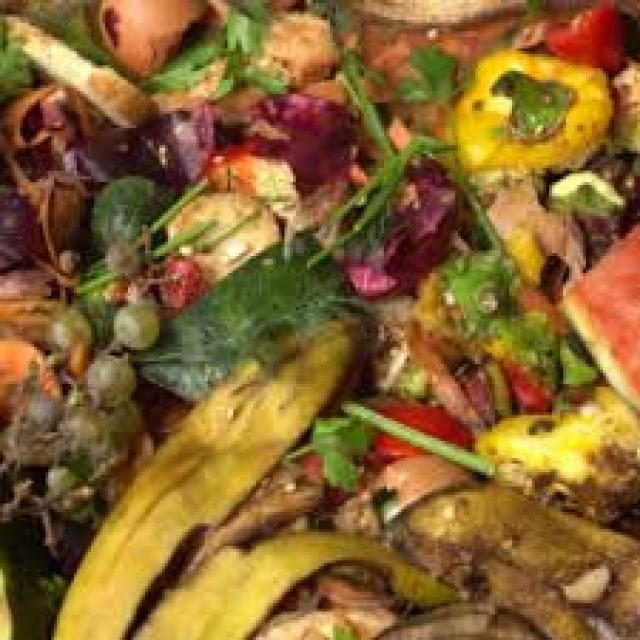food_waste: (27, 35, 618, 635)
